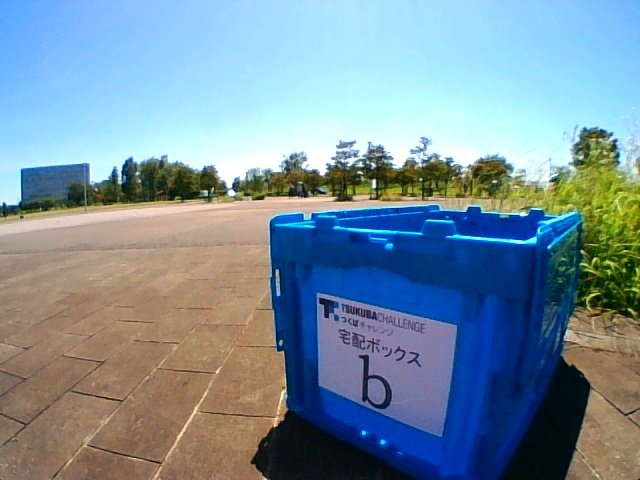blue_box: (270, 206, 582, 480)
tag_b: (355, 337, 409, 411)
